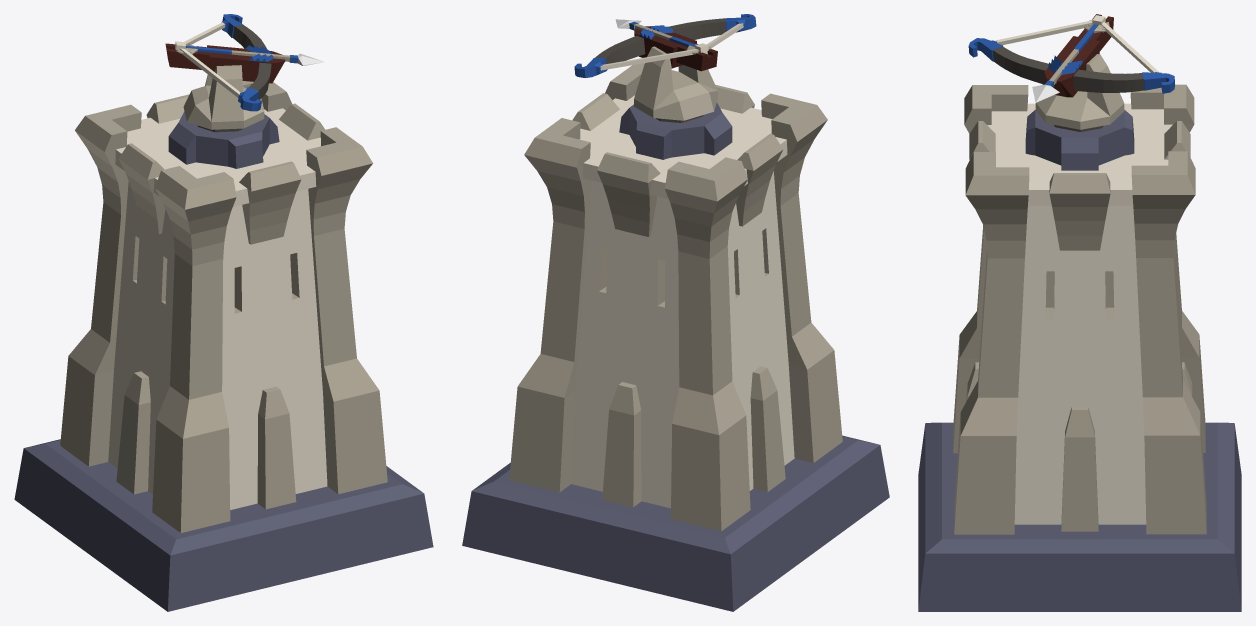
Rendered from new ballista tower.fbx.
3 renders of one model, left to right at view 1: azimuth 30°, elevation 25°; view 2: azimuth 150°, elevation 25°; view 3: azimuth 270°, elevation 25°, orthographic. The views are drawn at different scales.
Visible parts, largest first — view 1: Plane.003, Cube.009, Cube.010, bow part.001, Plane.004, arrow.001; view 2: Plane.003, Cube.009, bow part.001, Cube.010, Plane.004, arrow.001; view 3: Plane.003, bow part.001, Cube.009, Cube.010, Plane.004, arrow.001.
Boxes of the visible parts, x1,y1,x2,y2 form: Plane.003: (14,81,433,611); Cube.009: (183,65,264,132); Cube.010: (165,43,285,83); bow part.001: (221,14,271,111); Plane.004: (175,22,240,97); arrow.001: (175,44,324,65); Plane.003: (462,63,889,611); Cube.009: (634,46,717,122); bow part.001: (574,14,756,77); Cube.010: (634,26,717,71); Plane.004: (600,23,743,70); arrow.001: (615,19,711,54); Plane.003: (918,84,1241,611); bow part.001: (968,38,1174,93); Cube.009: (1035,54,1124,131); Cube.010: (1044,14,1113,97); Plane.004: (994,15,1159,72); arrow.001: (1032,19,1109,102).
Size of the model in its own units: 871 by 1510 by 871.
